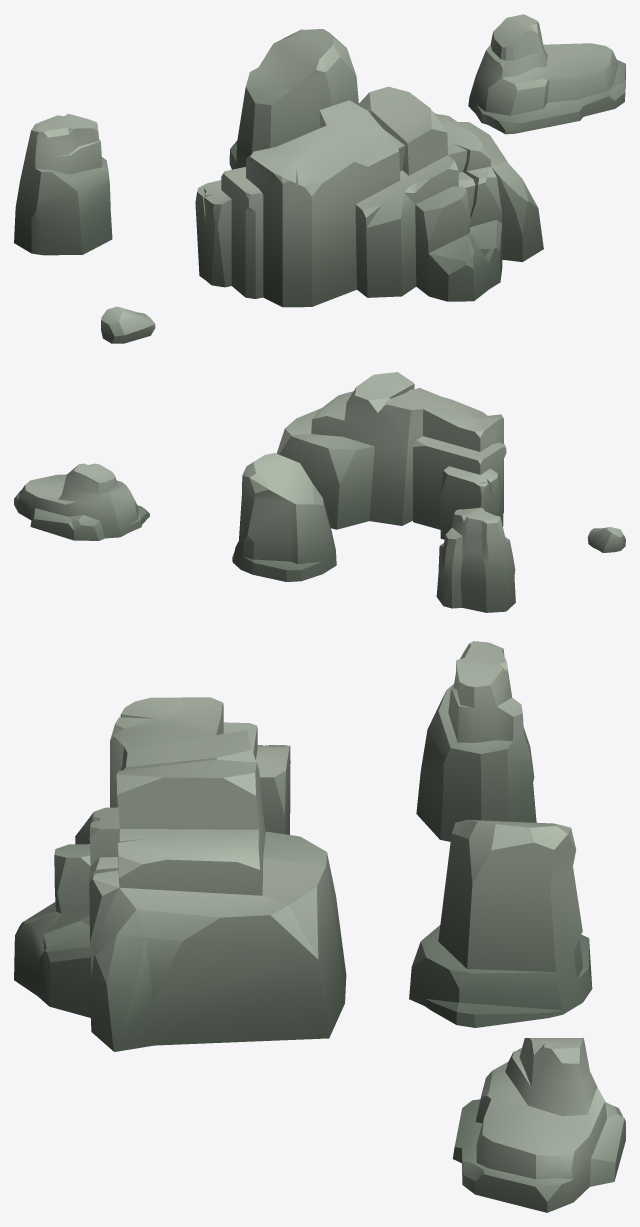
The model's file is rock2.FBX.
3 renders of one model, top to bottom at view 1: azimuth 30°, elevation 25°; view 2: azimuth 150°, elevation 25°; view 3: azimuth 270°, elevation 25°, orthographic. The views are drawn at different scales.
Visible parts, largest first — view 1: moumton01, RockCliff_03, RockCliff_01, RockCliff_02, RockLrg_01; view 2: moumton01, RockCliff_02, RockCliff_03, RockCliff_01, RockLrg_01; view 3: moumton01, RockCliff_02, RockCliff_03, RockCliff_01.
Boxes of the visible parts, x1,y1,x2,y2 form: moumton01: [195, 86, 543, 307]; RockCliff_03: [468, 14, 625, 134]; RockCliff_01: [14, 113, 112, 255]; RockCliff_02: [229, 29, 358, 169]; RockLrg_01: [101, 306, 155, 343]; moumton01: [276, 372, 506, 539]; RockCliff_02: [232, 453, 336, 581]; RockCliff_03: [14, 463, 149, 540]; RockCliff_01: [436, 507, 515, 612]; RockLrg_01: [587, 527, 625, 552]; moumton01: [14, 697, 346, 1051]; RockCliff_02: [409, 819, 592, 1027]; RockCliff_03: [452, 1038, 625, 1212]; RockCliff_01: [416, 641, 536, 841].
Size of the model in its own units: 7776 by 1698 by 4491.
